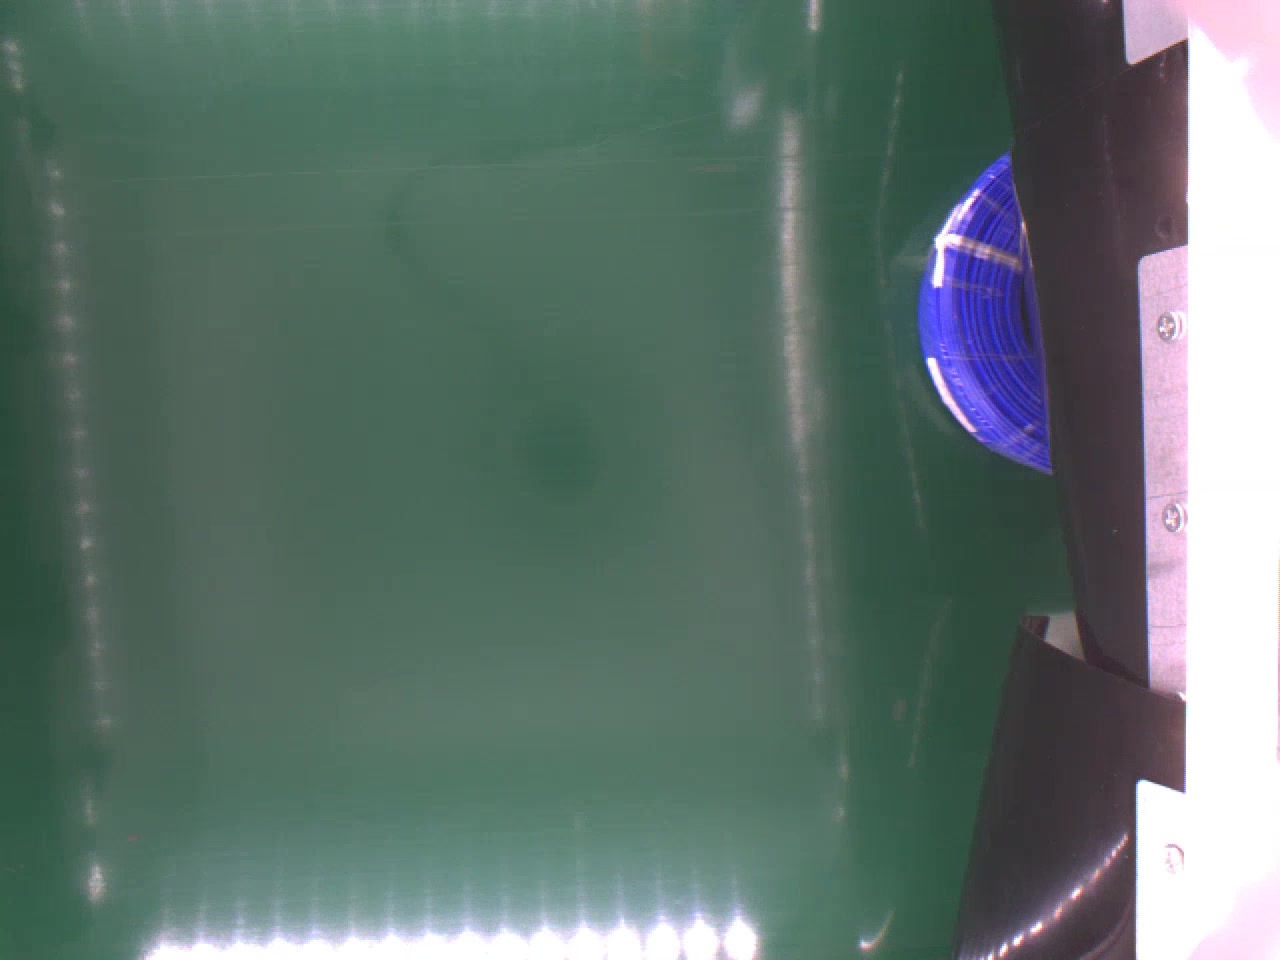blue: (912, 146, 1059, 469)
